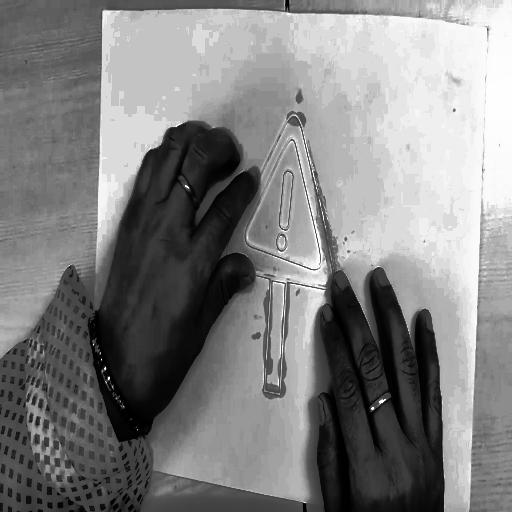bottom_left: (89, 457, 97, 477)
signboard: (206, 102, 362, 419)
top_left: (100, 6, 108, 21)
top_right: (482, 22, 491, 37)
